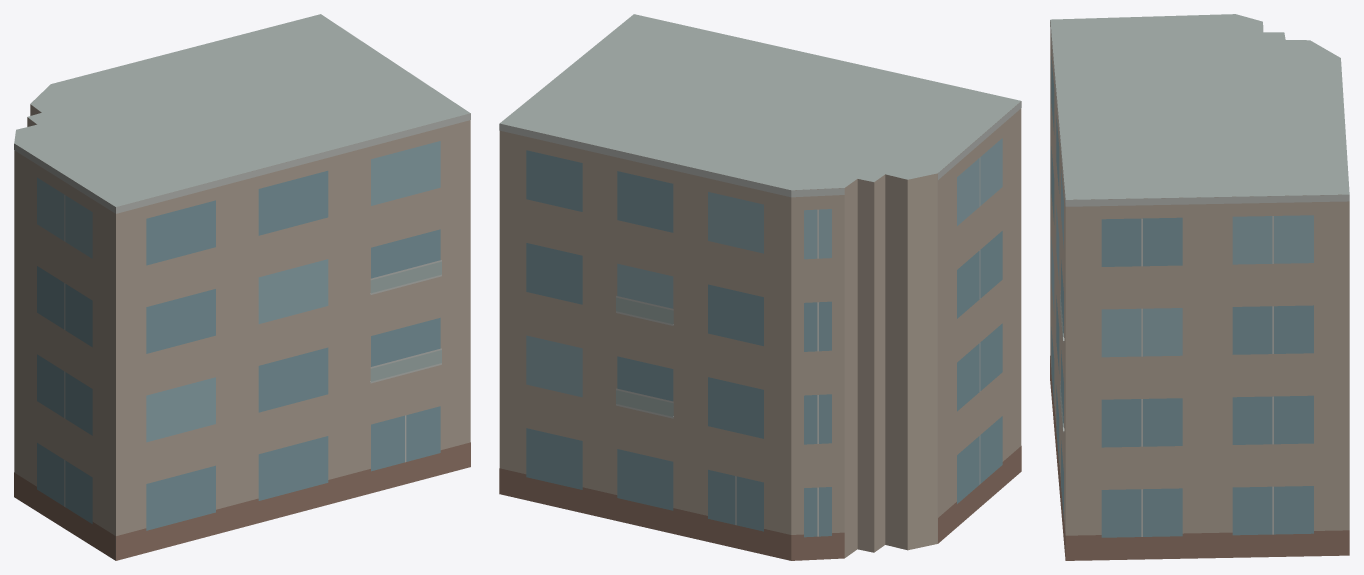
File: survey-upis-33041857.glb
3 renders of one model, left to right at view 1: azimuth 30°, elevation 25°; view 2: azimuth 150°, elevation 25°; view 3: azimuth 270°, elevation 25°, orthographic. The views are drawn at different scales.
Parts seen in each view (by area): view 1: survey-upis-33041857.tmp; view 2: survey-upis-33041857.tmp; view 3: survey-upis-33041857.tmp.
Part boxes in pixels (left/top/right/bottom): survey-upis-33041857.tmp: left=14, top=14, right=470, bottom=560; survey-upis-33041857.tmp: left=499, top=14, right=1021, bottom=560; survey-upis-33041857.tmp: left=1050, top=14, right=1349, bottom=560.
Bounding box in the file's own units: 14.15 × 12.8 × 9.63.
